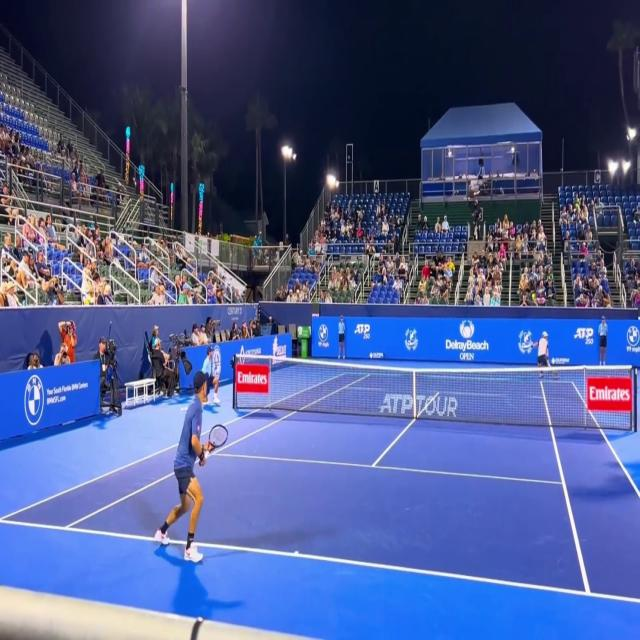tennisBall: (530, 292, 537, 301)
